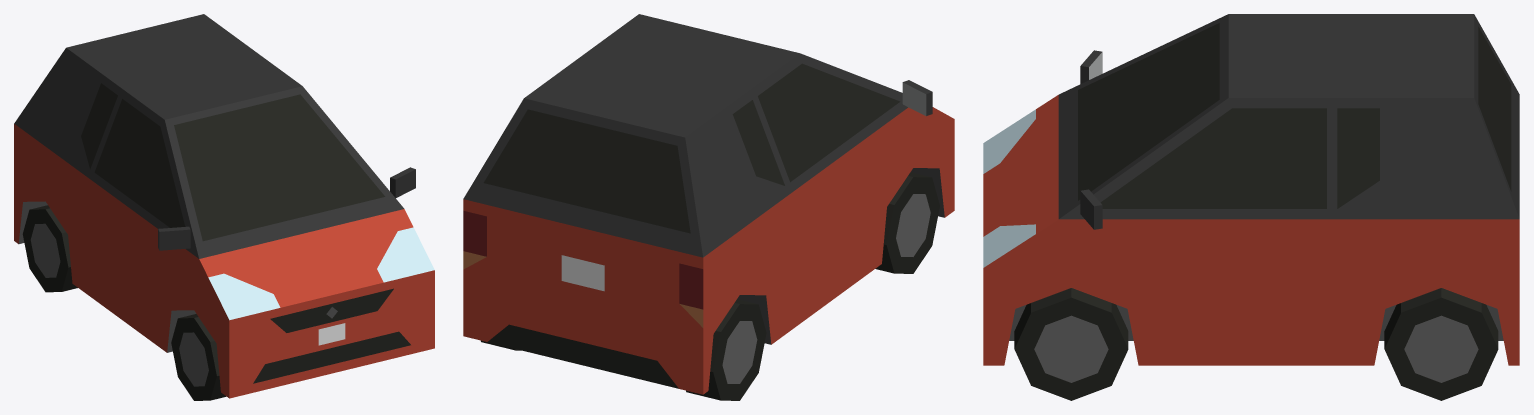
The model's file is Veh_Microcar_Red.obj.
The picture shows the model from 3 angles, left to right: view 1: azimuth 30°, elevation 25°; view 2: azimuth 150°, elevation 25°; view 3: azimuth 270°, elevation 25°; orthographic projection. The views are drawn at different scales.
Size of the model in its own units: 0.9194 by 0.7766 by 1.34.
